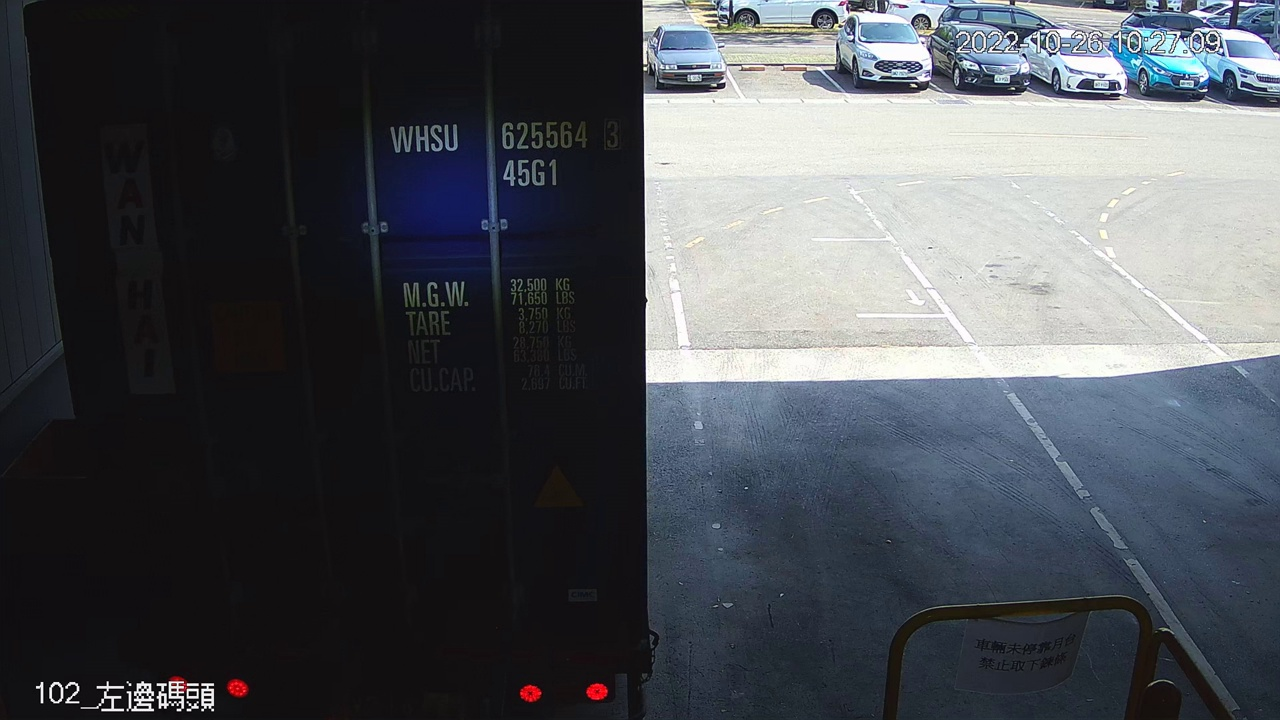container: (378, 105, 626, 200)
